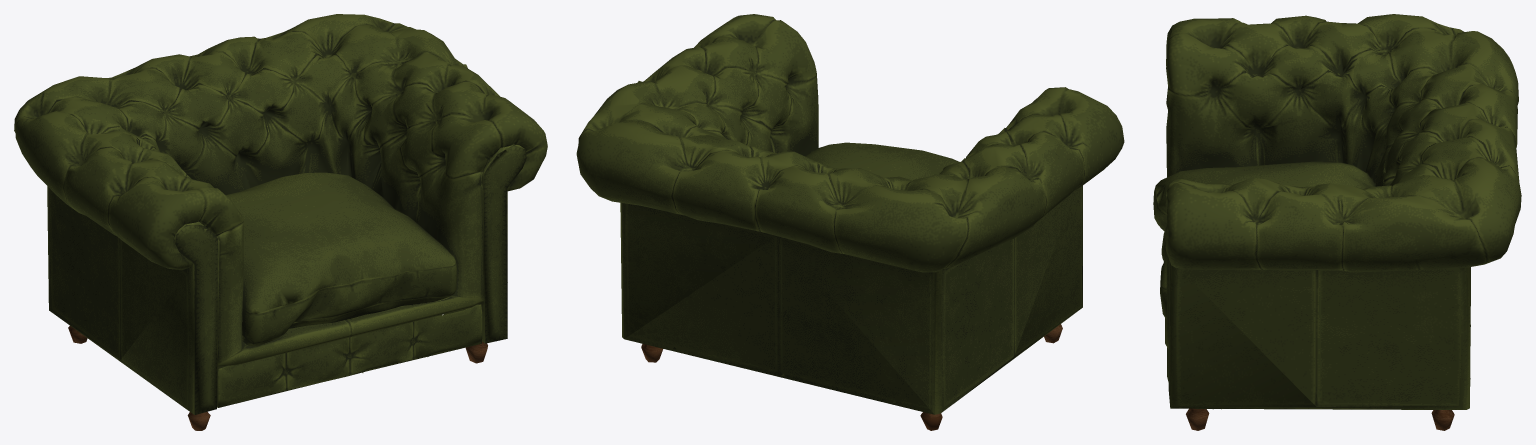
The model's file is classic_leather_armchair_high-poly.gltf.
3 views of the same model, side by side, from view 1: azimuth 30°, elevation 25°; view 2: azimuth 150°, elevation 25°; view 3: azimuth 270°, elevation 25° (orthographic). The views are drawn at different scales.
Visible parts, largest first — view 1: Classic_Leather Armchair_(High-Poly)_Material_0.002; view 2: Classic_Leather Armchair_(High-Poly)_Material_0.002; view 3: Classic_Leather Armchair_(High-Poly)_Material_0.002.
Boxes of the visible parts, x1=… form: Classic_Leather Armchair_(High-Poly)_Material_0.002: x1=14, y1=14, x2=547, y2=430; Classic_Leather Armchair_(High-Poly)_Material_0.002: x1=576, y1=14, x2=1124, y2=430; Classic_Leather Armchair_(High-Poly)_Material_0.002: x1=1153, y1=14, x2=1521, y2=430.
Bounding box in the file's own units: 135 × 77.24 × 102.
2 materials, 2 textured.
